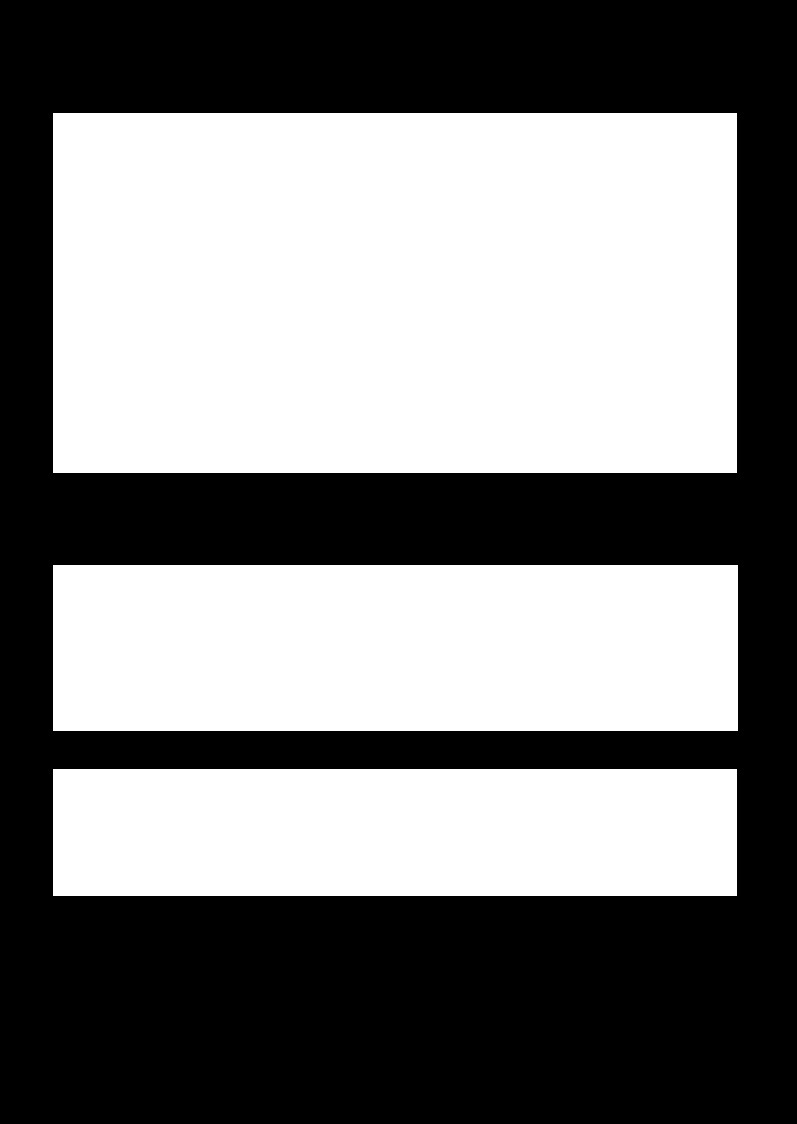table: (53, 113, 736, 472), (53, 565, 737, 730), (53, 769, 736, 895)
